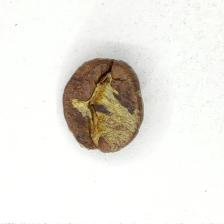NG: (77, 60, 140, 151)
